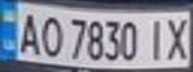0: (121, 17, 142, 62)
3: (103, 17, 124, 62)
7: (63, 15, 87, 61)
8: (84, 16, 106, 62)
A: (12, 8, 42, 56)
I: (142, 16, 169, 62)
O: (36, 11, 66, 58)
X: (163, 14, 193, 61)
